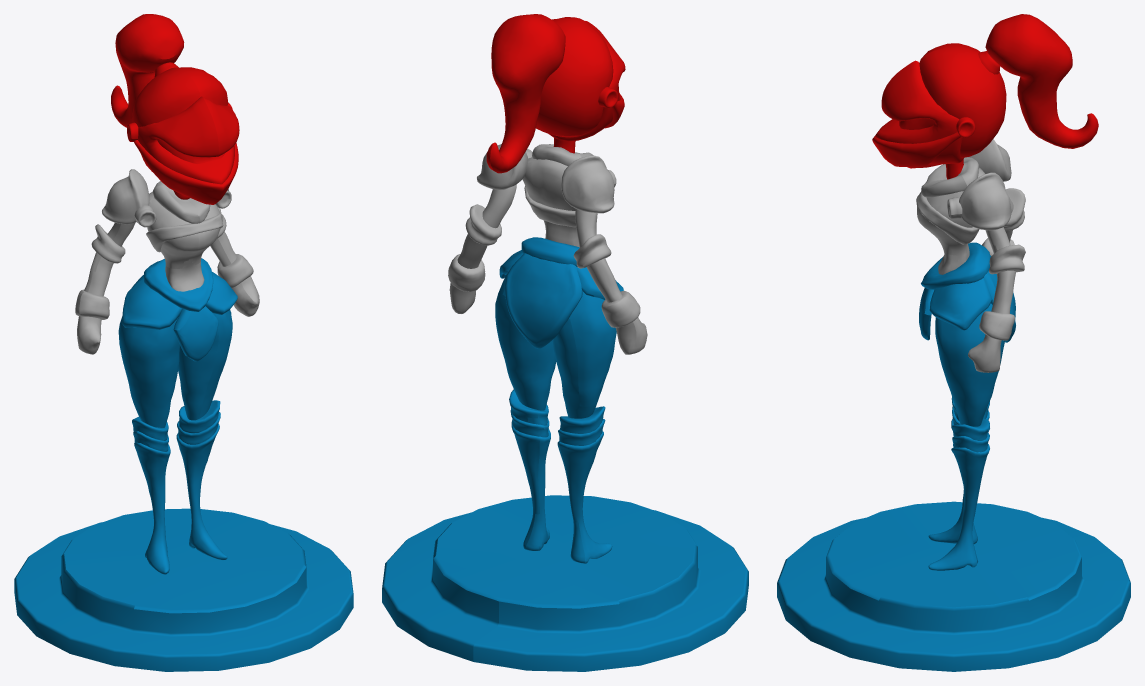
The model's file is SM_Chev_TCP.fbx.
3 views of the same model, side by side, from view 1: azimuth 30°, elevation 25°; view 2: azimuth 150°, elevation 25°; view 3: azimuth 270°, elevation 25° (orthographic). The views are drawn at different scales.
Parts seen in each view (by area): view 1: SM_Chev_TCP; view 2: SM_Chev_TCP; view 3: SM_Chev_TCP.
Part boxes in pixels (x1,y1,x2,y2): SM_Chev_TCP: (14,14,353,671); SM_Chev_TCP: (382,14,748,671); SM_Chev_TCP: (777,14,1130,671).
Size of the model in its own units: 6.25 by 11.32 by 6.25.
